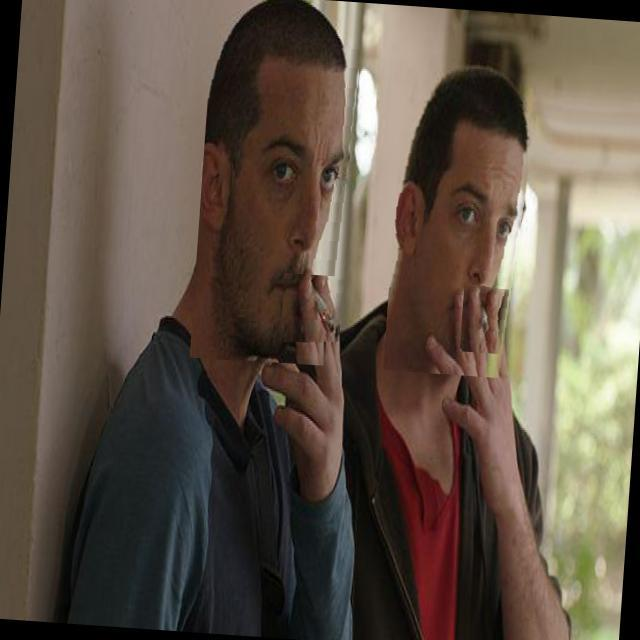cigarette: (279, 273, 347, 347), (459, 284, 508, 354)
